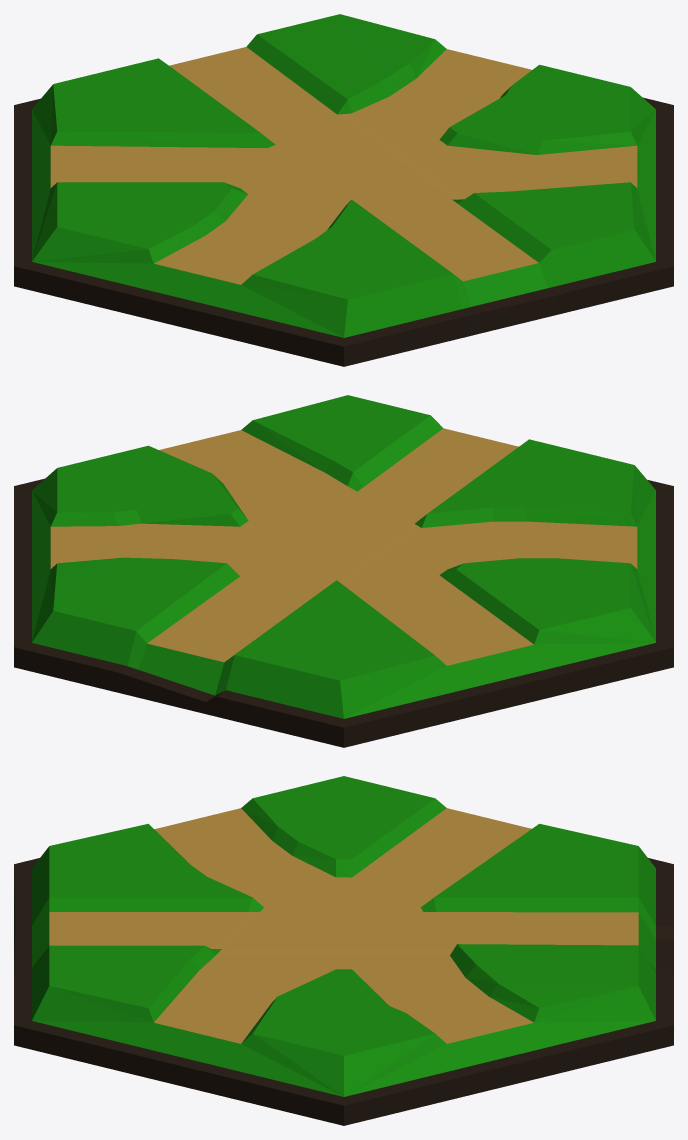
The model's file is roadCross2Tile.FBX.
3 renders of one model, top to bottom at view 1: azimuth 30°, elevation 25°; view 2: azimuth 150°, elevation 25°; view 3: azimuth 270°, elevation 25°, orthographic.
Visible parts, largest first — view 1: tail005; view 2: tail005; view 3: tail005.
Boxes of the visible parts, bbox=[...] form: tail005: bbox=[14, 14, 673, 366]; tail005: bbox=[14, 395, 673, 747]; tail005: bbox=[14, 776, 673, 1125].
Size of the model in its own units: 1.2 by 0.0882 by 1.04.
